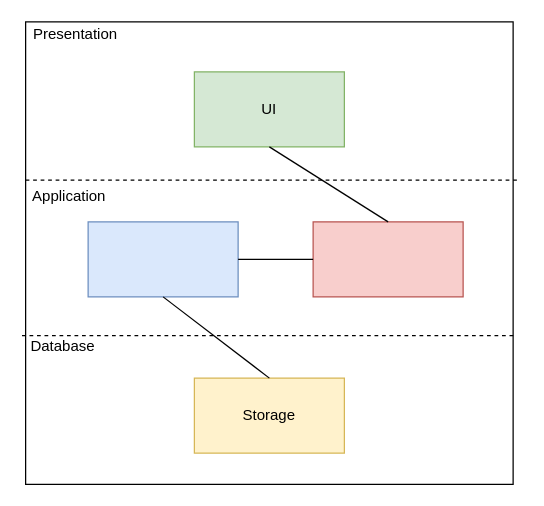
Image size: 544x506. Some labels were removed from this diagram. The shapes that lost their labels are listed below. From the top down, each one's box as (x1, y1, x2, y2) in pixels, then its label:
(87, 221, 238, 297): Model
(312, 221, 463, 297): Logic
